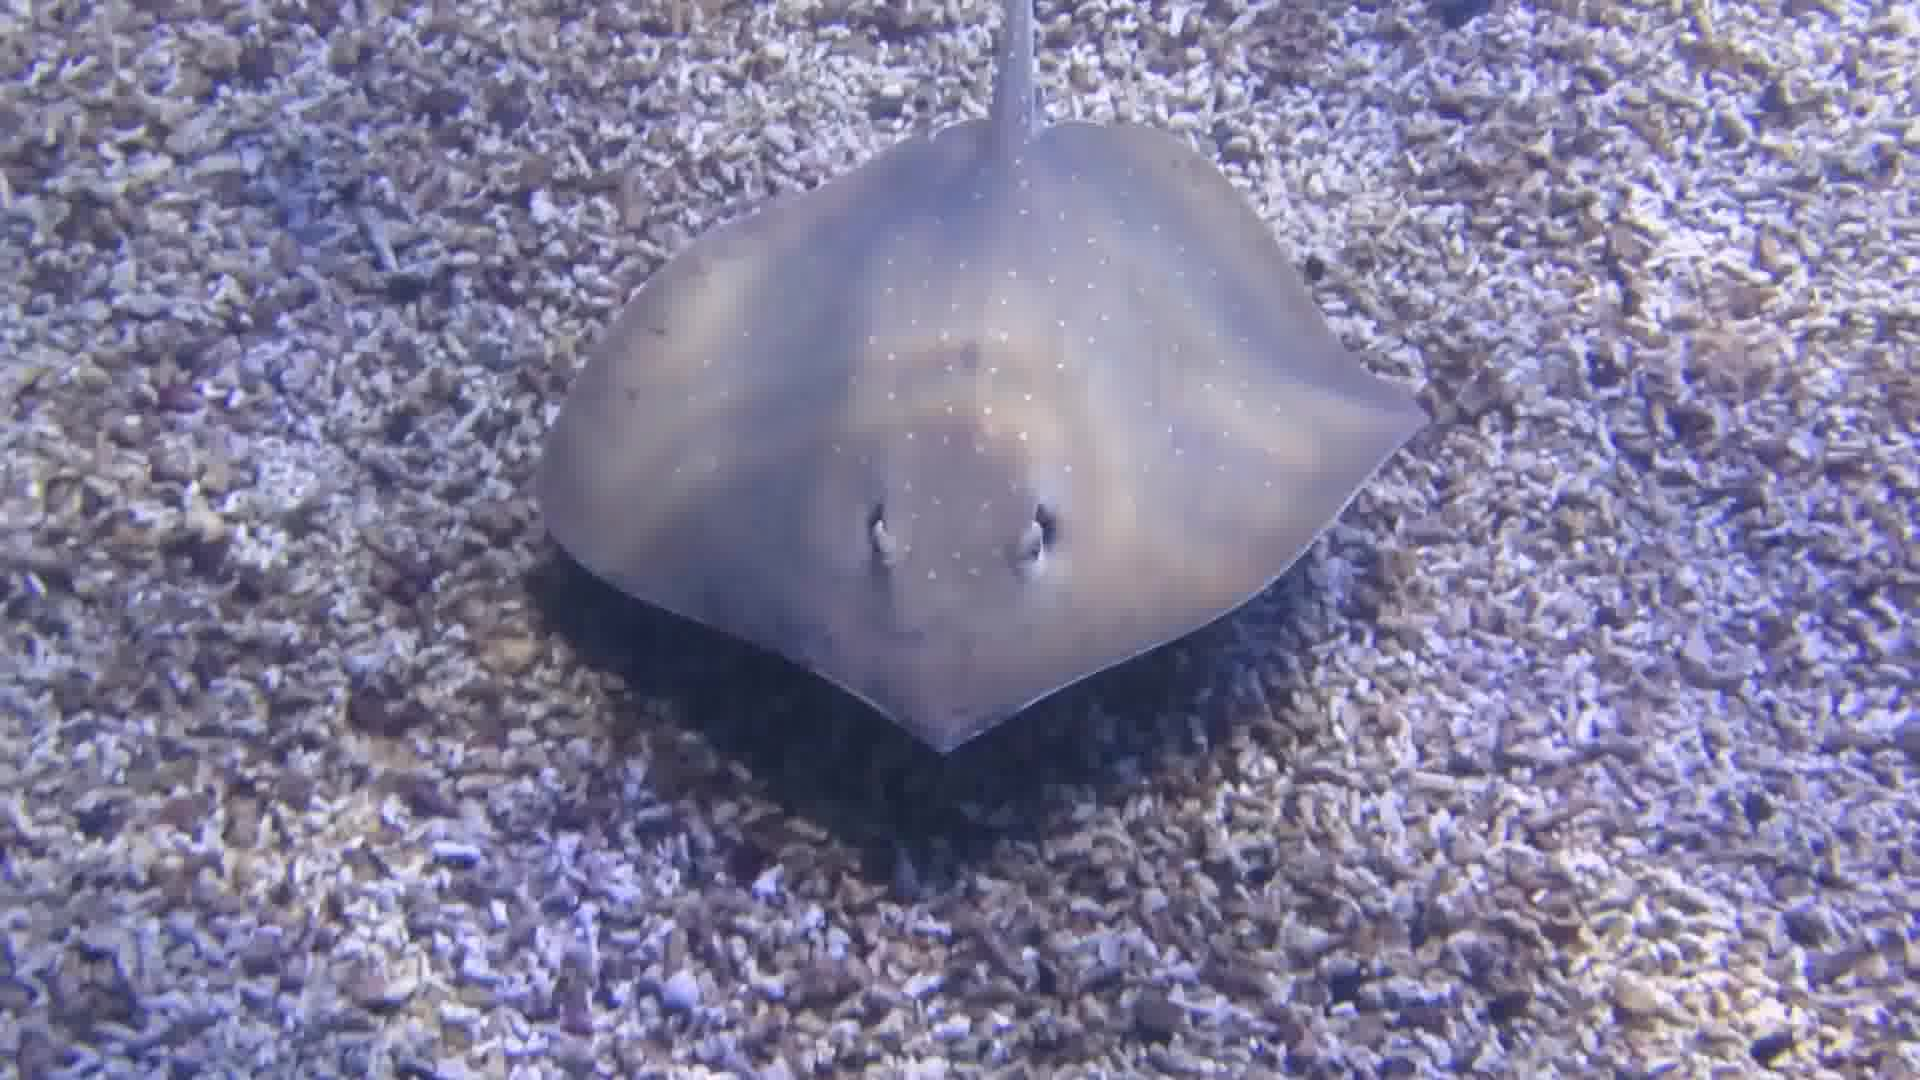Himantura gerrardi: (517, 1, 1473, 771)
